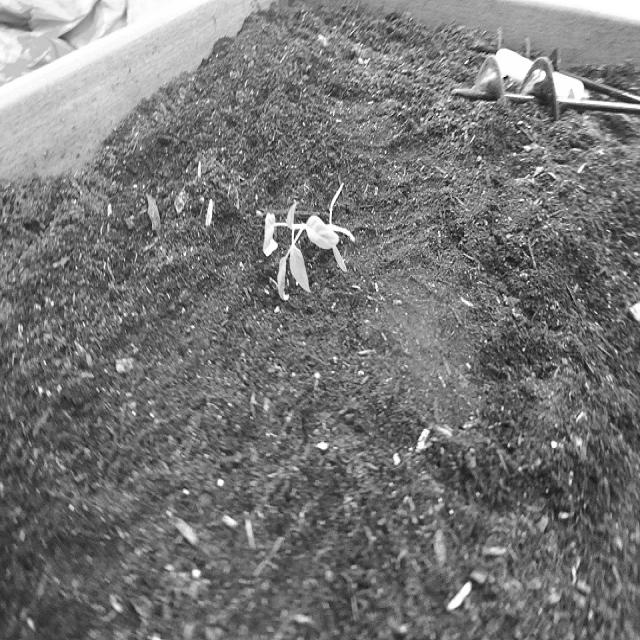Healthy: (249, 151, 370, 311)
